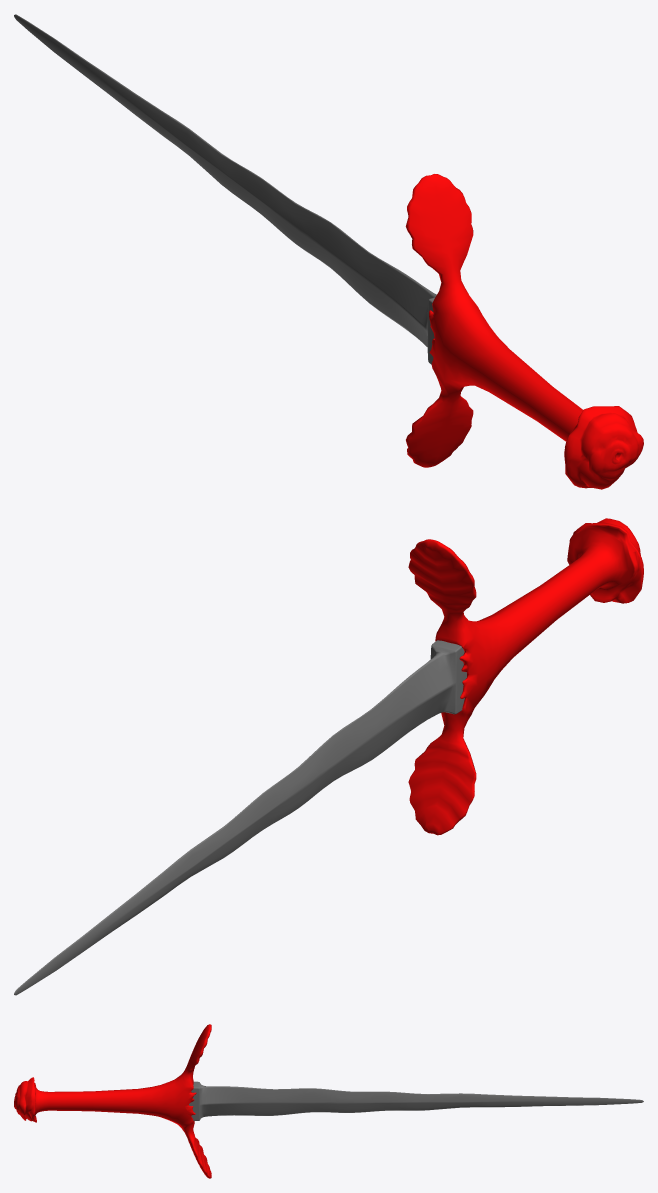
3 renders of one model, top to bottom at view 1: azimuth 30°, elevation 25°; view 2: azimuth 150°, elevation 25°; view 3: azimuth 270°, elevation 25°, orthographic. The views are drawn at different scales.
Visible parts, largest first — view 1: g dagger_03_retopologized:polySurface11 dagger_03_retopologi (×2), g dagger_03_retopologized:polySurface11 polySurface6 handle; view 2: g dagger_03_retopologized:polySurface11 dagger_03_retopologi (×2), g dagger_03_retopologized:polySurface11 polySurface6 handle; view 3: g dagger_03_retopologized:polySurface11 dagger_03_retopologi (×2), g dagger_03_retopologized:polySurface11 polySurface6 handle.
Part boxes in pixels (box(x1,y1,x2,y2)): g dagger_03_retopologized:polySurface11 dagger_03_retopologi (×2): box(14, 14, 643, 489); g dagger_03_retopologized:polySurface11 polySurface6 handle: box(407, 199, 643, 488); g dagger_03_retopologized:polySurface11 dagger_03_retopologi (×2): box(14, 518, 641, 995); g dagger_03_retopologized:polySurface11 polySurface6 handle: box(409, 521, 643, 819); g dagger_03_retopologized:polySurface11 dagger_03_retopologi (×2): box(14, 1024, 643, 1178); g dagger_03_retopologized:polySurface11 polySurface6 handle: box(14, 1035, 209, 1177).
Bounding box in the file's own units: 0.1396 × 0.5315 × 2.
